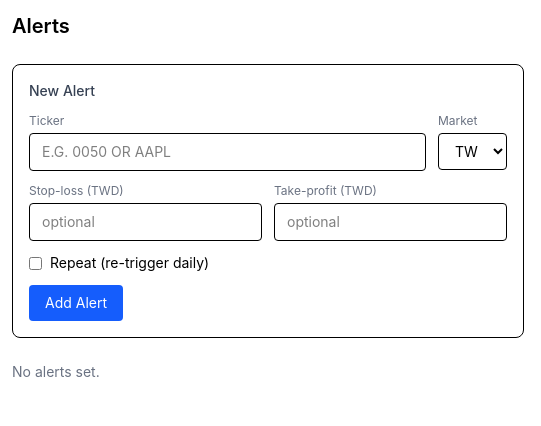
Alerts › add form: shows error when ticker is missing
Expected: the text "No alerts set." is shown, x1=12 y1=363 x2=100 y2=380
Type "100" into the number field labelled "Stop-loss (TWD)" at [146, 222], box x1=29 y1=203 x2=262 y2=241
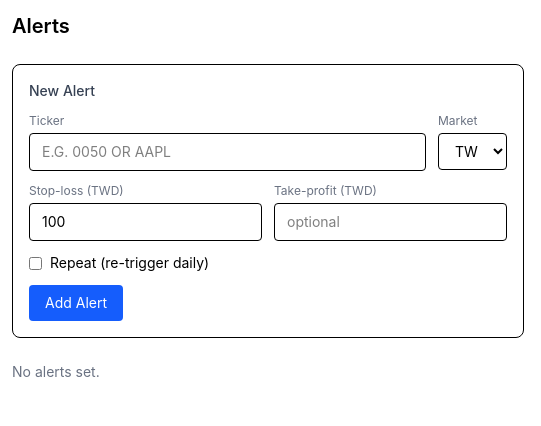
Click the button "Add Alert" at [76, 303], box x1=29 y1=285 x2=123 y2=321
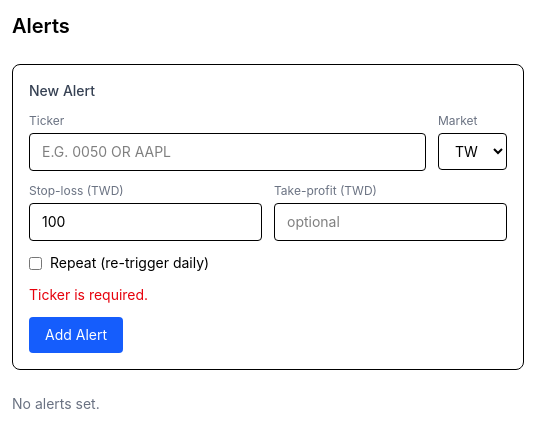
Result: the text "Ticker is required." is shown at x1=29 y1=286 x2=148 y2=303
